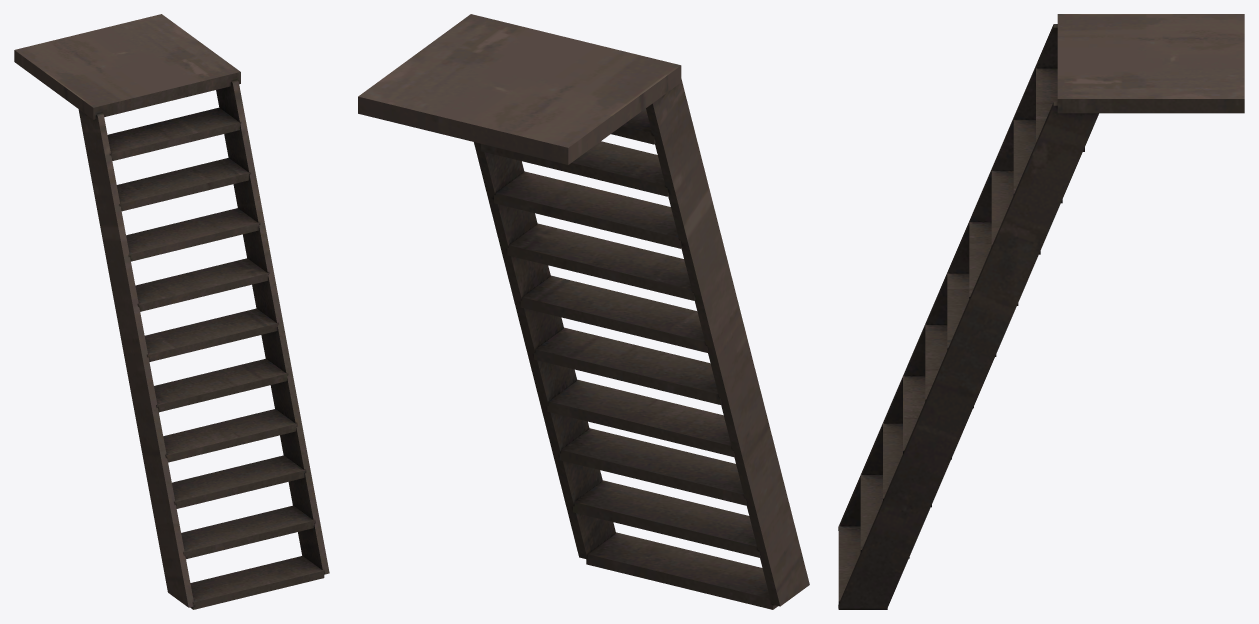
The model's file is med_class_stairs.glb.
The picture shows the model from 3 angles, left to right: view 1: azimuth 30°, elevation 25°; view 2: azimuth 150°, elevation 25°; view 3: azimuth 270°, elevation 25°; orthographic projection. The views are drawn at different scales.
Parts seen in each view (by area): view 1: med_class_stairs; view 2: med_class_stairs; view 3: med_class_stairs.
Boxes of the visible parts, box(x1,y1,x2,y2) form: med_class_stairs: box(14, 14, 329, 609); med_class_stairs: box(358, 14, 809, 609); med_class_stairs: box(838, 14, 1244, 609).
Bounding box in the file's own units: 1.14 × 3.22 × 2.3.
Materials: 1 (1 with a texture image).
